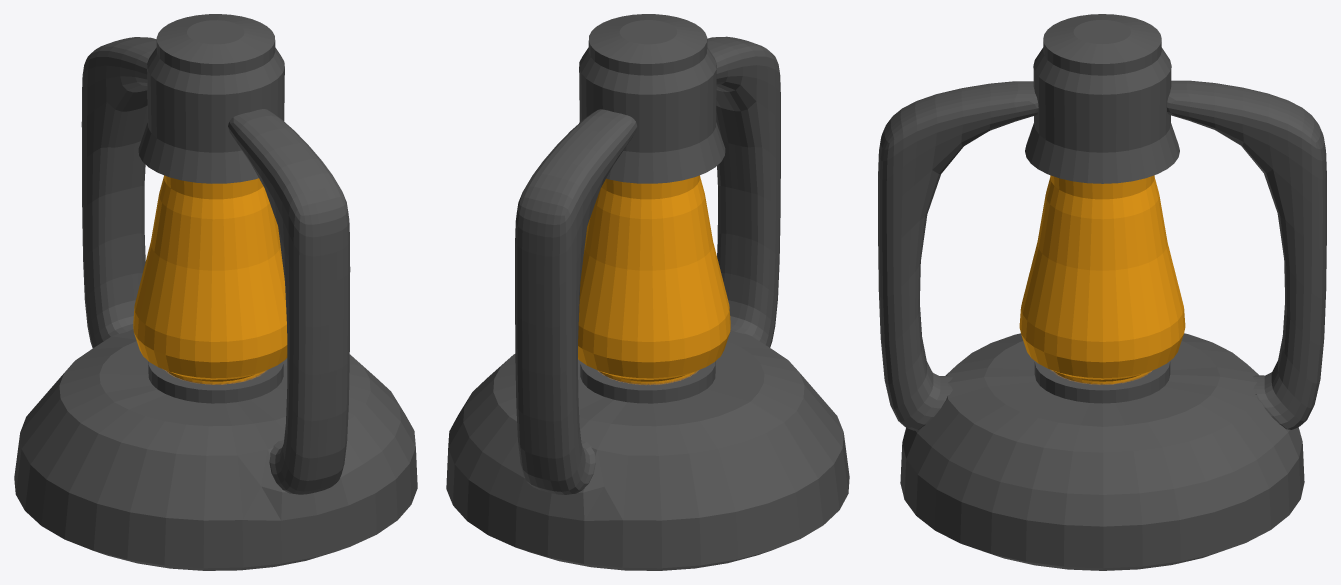
File: Lamp.fbx
3 renders of one model, left to right at view 1: azimuth 30°, elevation 25°; view 2: azimuth 150°, elevation 25°; view 3: azimuth 270°, elevation 25°, orthographic.
Visible parts, largest first — view 1: Lamp_Baked; view 2: Lamp_Baked; view 3: Lamp_Baked.
Part boxes in pixels (left/top/right/bottom): Lamp_Baked: left=14, top=14, right=417, bottom=570; Lamp_Baked: left=446, top=14, right=849, bottom=570; Lamp_Baked: left=878, top=14, right=1326, bottom=570.
Size of the model in its own units: 14.93 by 18.96 by 16.58.
